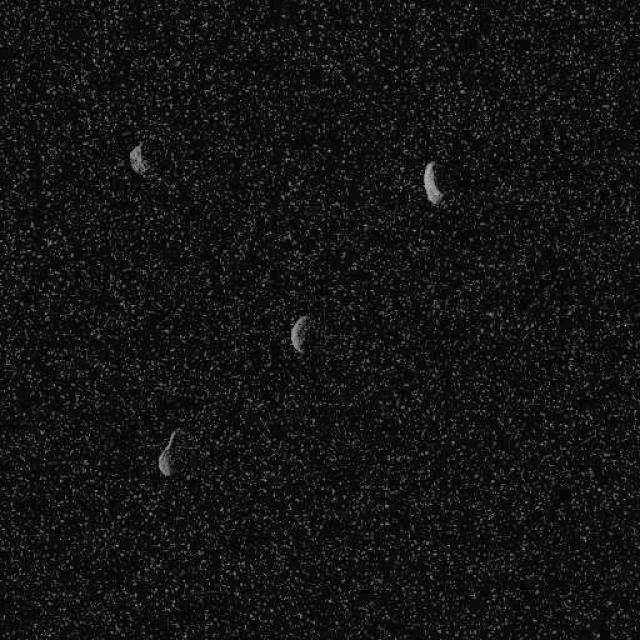D2: (156, 428, 182, 478), (421, 159, 444, 205), (289, 314, 310, 354), (128, 142, 148, 176)
